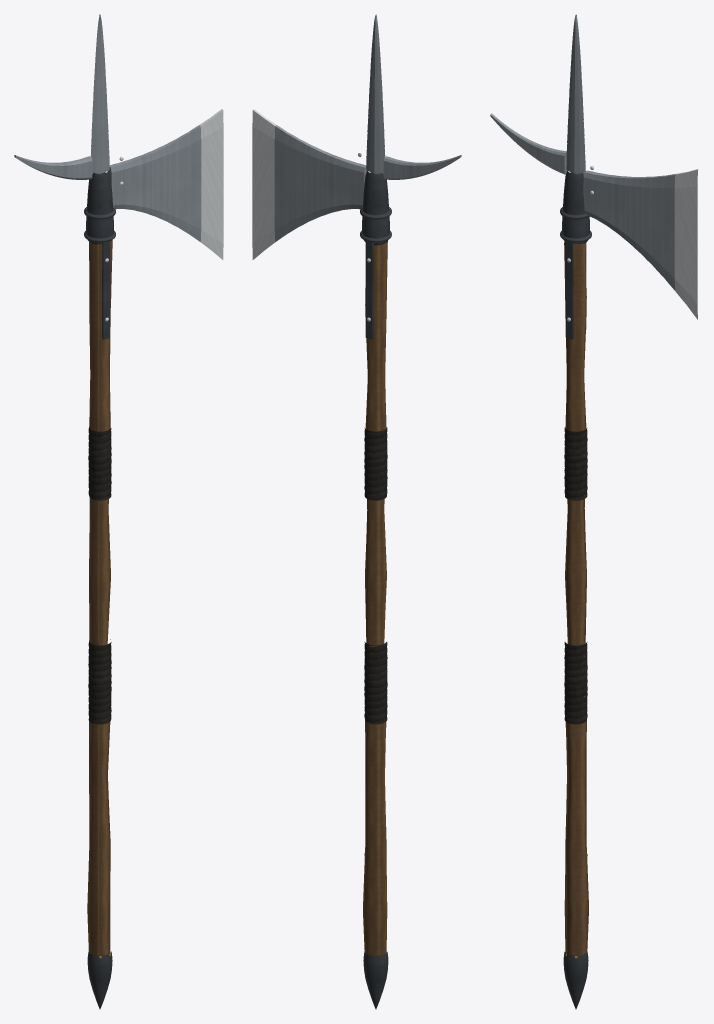
The model's file is halberd.glb.
The picture shows the model from 3 angles, left to right: view 1: azimuth 30°, elevation 25°; view 2: azimuth 150°, elevation 25°; view 3: azimuth 330°, elevation 25°; orthographic projection.
Parts seen in each view (by area): view 1: wood / oiled hardwood, steel / forged blade steel, darksteel / oil-blackened fittings, leather / oiled leather wrap, edge / honed bright bevel; view 2: wood / oiled hardwood, steel / forged blade steel, darksteel / oil-blackened fittings, leather / oiled leather wrap, edge / honed bright bevel; view 3: wood / oiled hardwood, steel / forged blade steel, leather / oiled leather wrap, darksteel / oil-blackened fittings, edge / honed bright bevel.
Boxes of the visible parts, box(x1,y1,x2,y2) form: wood / oiled hardwood: box(87, 172, 112, 955); steel / forged blade steel: box(14, 14, 201, 241); darksteel / oil-blackened fittings: box(84, 170, 115, 1009); leather / oiled leather wrap: box(88, 427, 111, 724); edge / honed bright bevel: box(105, 109, 223, 321); wood / oiled hardwood: box(363, 172, 387, 955); steel / forged blade steel: box(274, 14, 461, 241); darksteel / oil-blackened fittings: box(360, 170, 391, 1009); leather / oiled leather wrap: box(364, 427, 387, 724); edge / honed bright bevel: box(252, 109, 370, 321); wood / oiled hardwood: box(564, 172, 588, 955); steel / forged blade steel: box(490, 14, 675, 290); leather / oiled leather wrap: box(564, 427, 587, 724); darksteel / oil-blackened fittings: box(560, 171, 591, 1009); edge / honed bright bevel: box(567, 166, 698, 321).
Size of the model in its own units: 0.44 by 2.02 by 0.0592.
Materials: 8 (5 with a texture image).
